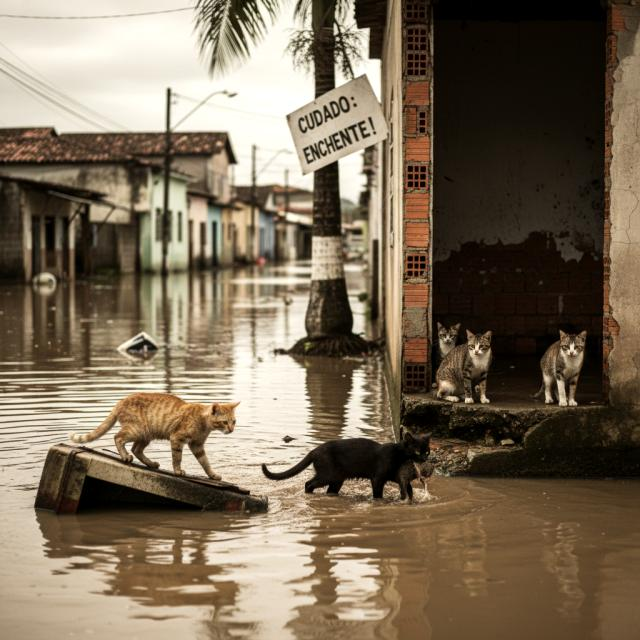cat: (73, 381, 243, 491), (256, 420, 436, 510), (430, 329, 510, 408), (540, 325, 592, 409), (436, 321, 460, 357)
